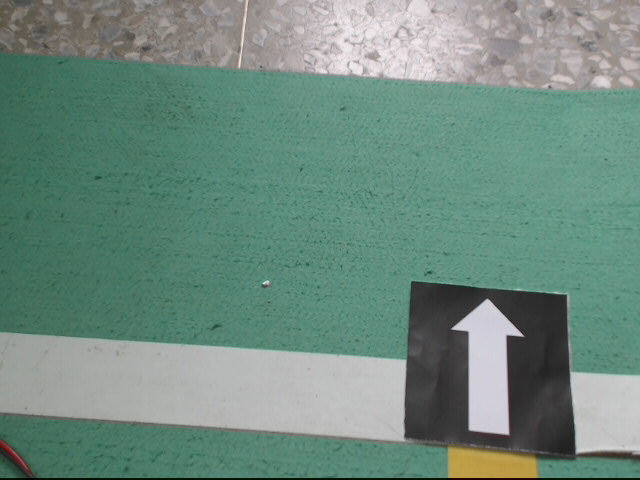straight: (404, 282, 580, 448)
